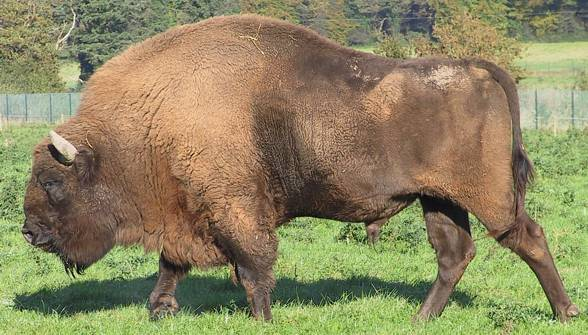zubr: (9, 22, 586, 335)
